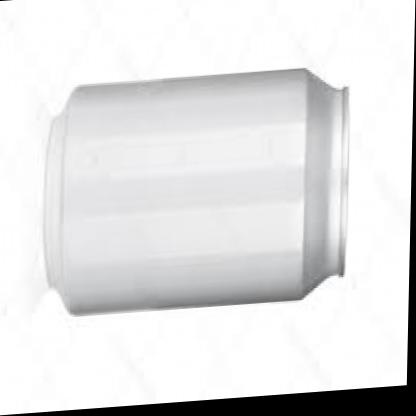trash: (44, 69, 347, 313)
